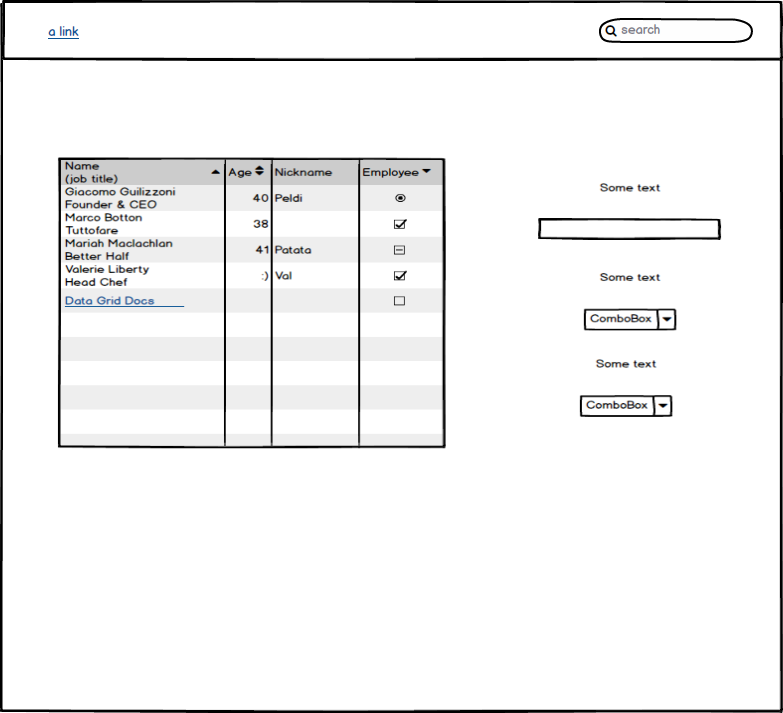input: (534, 213, 727, 245)
label: (592, 353, 676, 376), (594, 266, 677, 287), (595, 176, 664, 197)
navlink: (39, 17, 86, 46)
search: (593, 13, 755, 47)
select_box: (578, 305, 682, 337), (578, 392, 679, 422)
table: (53, 153, 451, 455)
